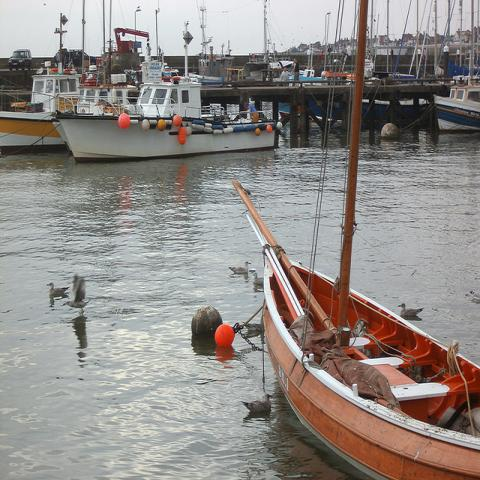car: (9, 50, 32, 73)
